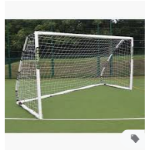goals: (14, 29, 135, 121)
